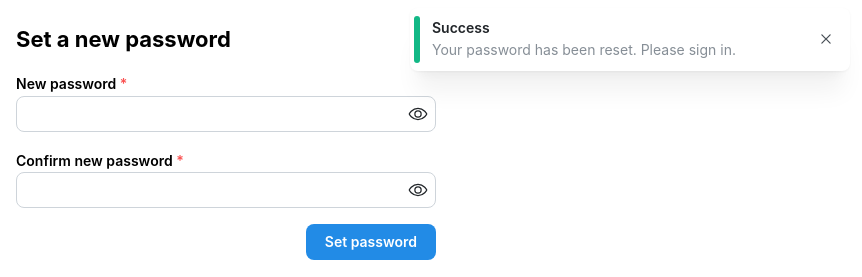
Test: shows the API error and clears both fields on failure
Step 1. Type "new-secret" into the password field labelled "New password *" → [226, 114], box [17, 97, 435, 131]
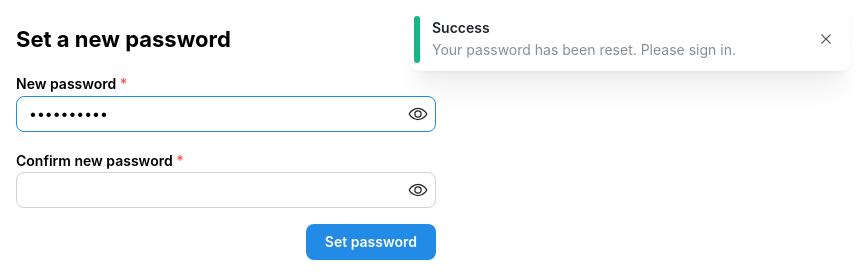
Step 2. Type "new-secret" into the password field labelled "Confirm new password *" → [226, 190], box [17, 173, 435, 207]
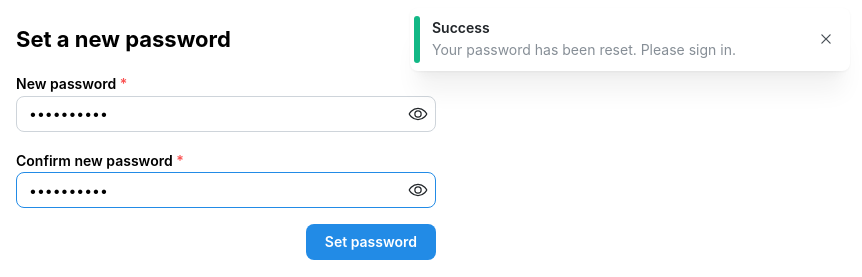
Step 3. Click the button "Set password" → [371, 242], box [306, 224, 436, 260]
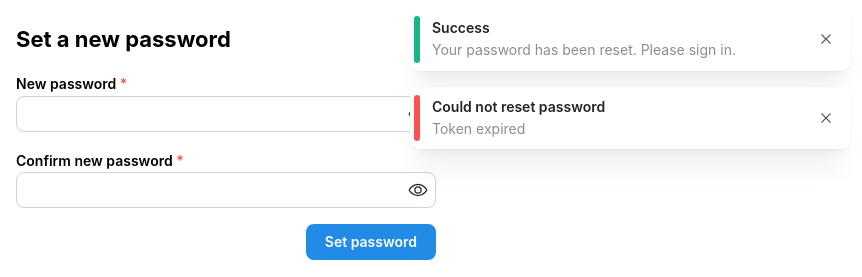
Result: the text "Token expired" is shown at [432, 120, 525, 137]
Result: the password field labelled "New password *" is empty at [17, 97, 435, 131]
Result: the password field labelled "Confirm new password *" is empty at [17, 173, 435, 207]
